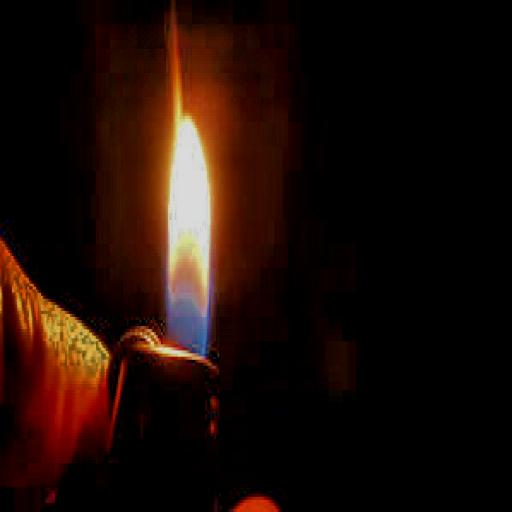fire: (154, 88, 219, 360)
